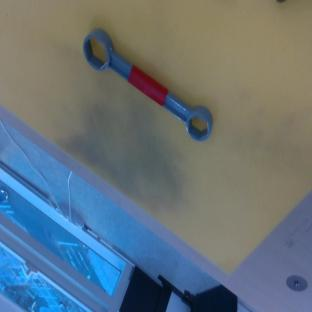part_3_good: (73, 24, 221, 149)
